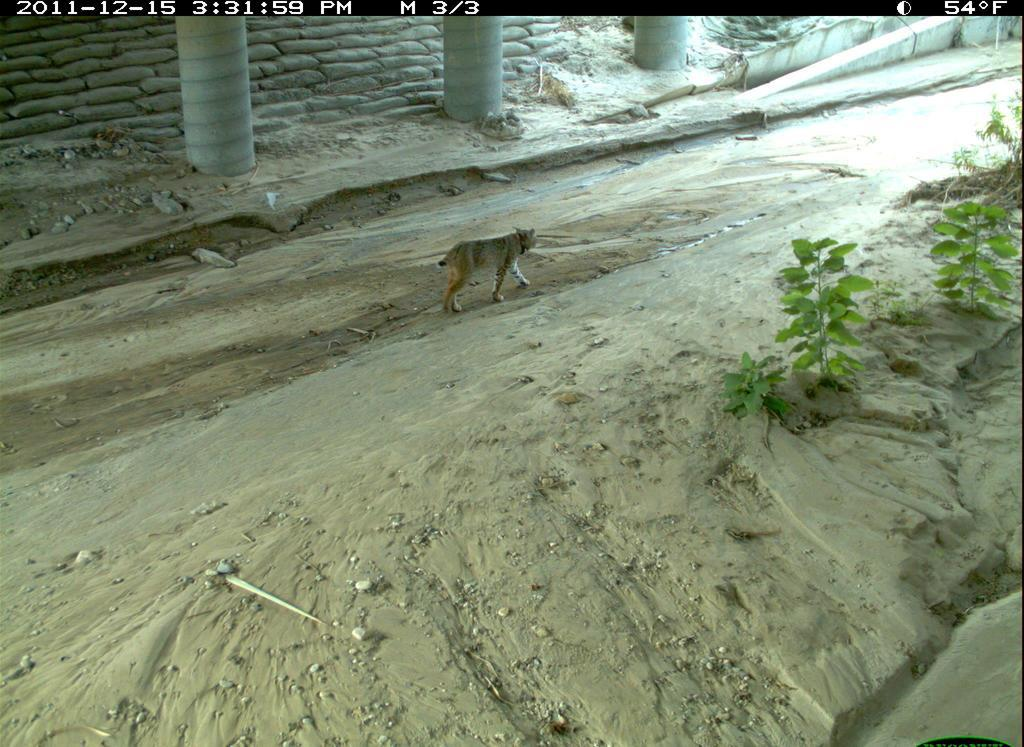bobcat: (427, 223, 545, 323)
